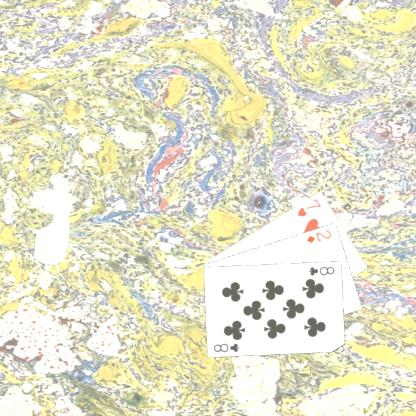2D: (304, 227, 332, 245)
7H: (294, 195, 323, 218)
8C: (306, 263, 336, 277), (211, 340, 241, 354)
